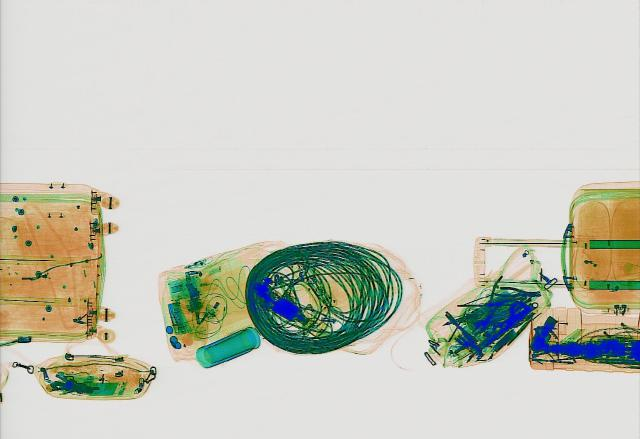Pliers: (492, 285, 540, 298)
